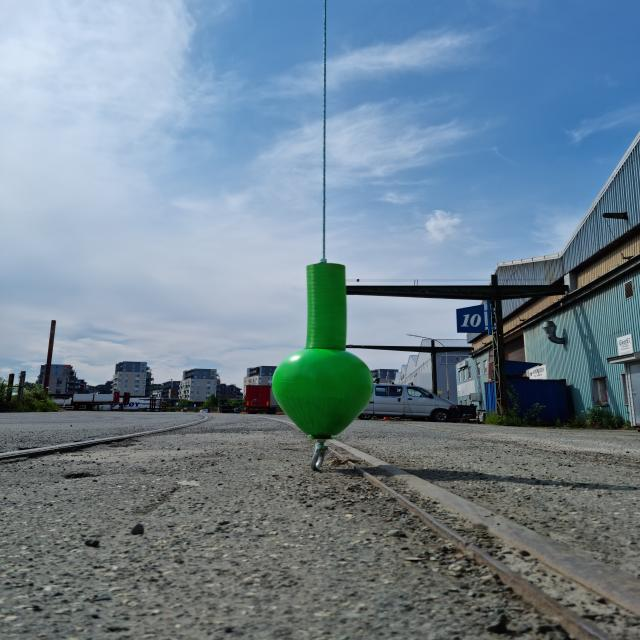green: (273, 262, 377, 438)
